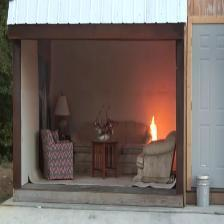fire: (144, 114, 161, 143)
